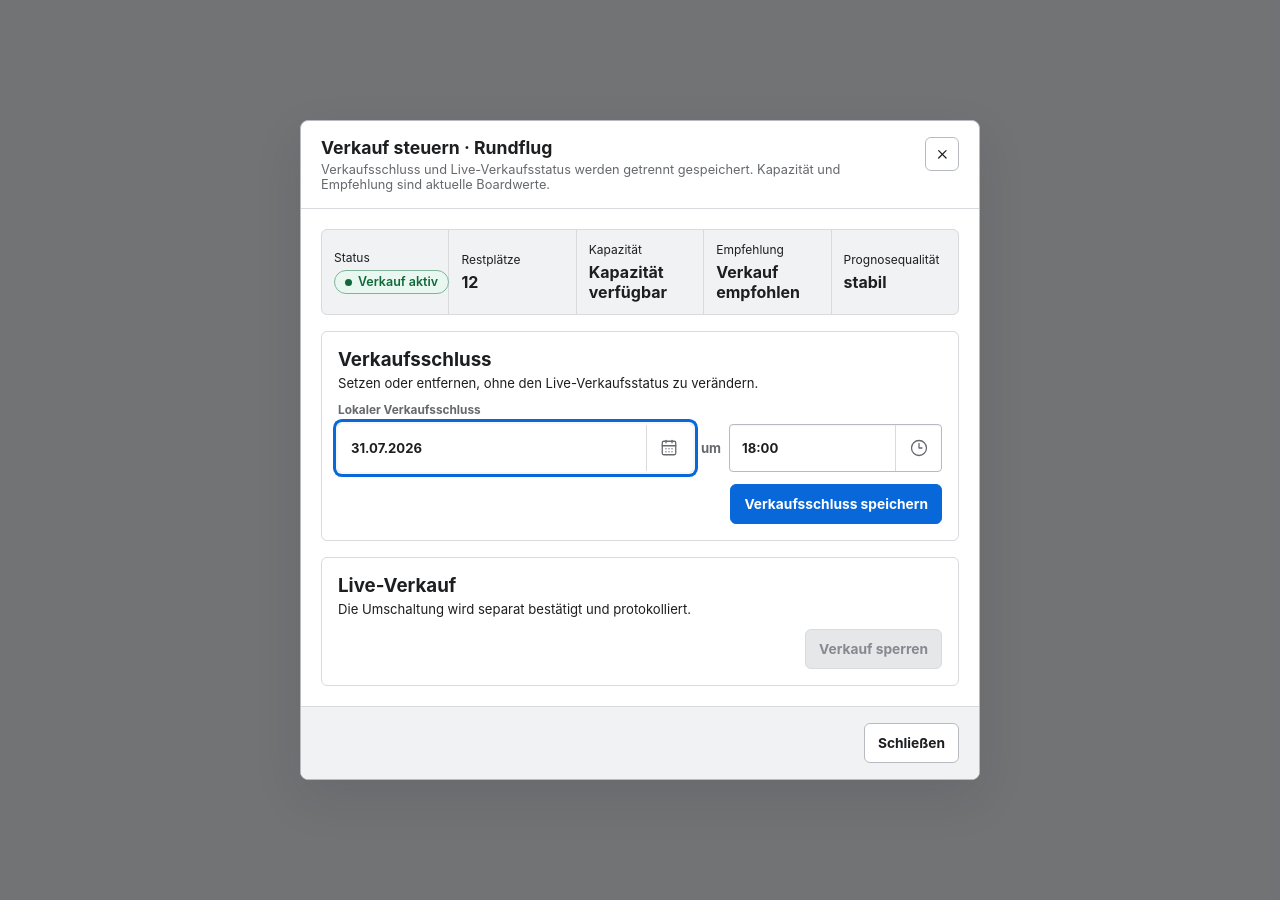
Scenario: product sales administration › protects an unsaved closing time and disables the separate live switch
The image size is (1280, 900).
Expected: the button "Verkauf sperren" is disabled, x1=805 y1=629 x2=942 y2=669
What coordinates should you click on to do the following:
click the button "Schließen"
I would click on:
 (911, 743)
Its box is x1=864 y1=723 x2=959 y2=763.
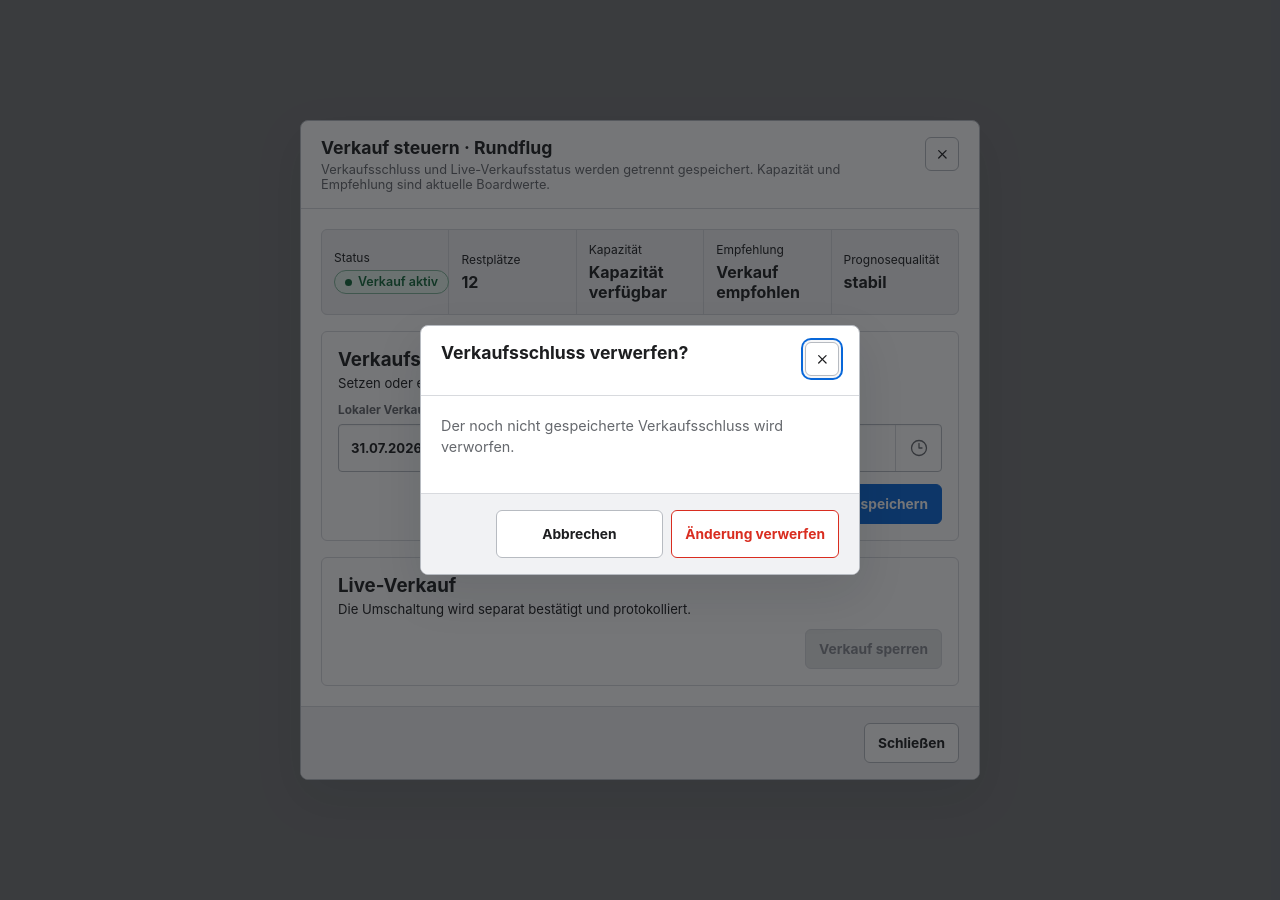
Expected: the dialog "Verkaufsschluss verwerfen?" is shown, x1=420 y1=325 x2=860 y2=574
